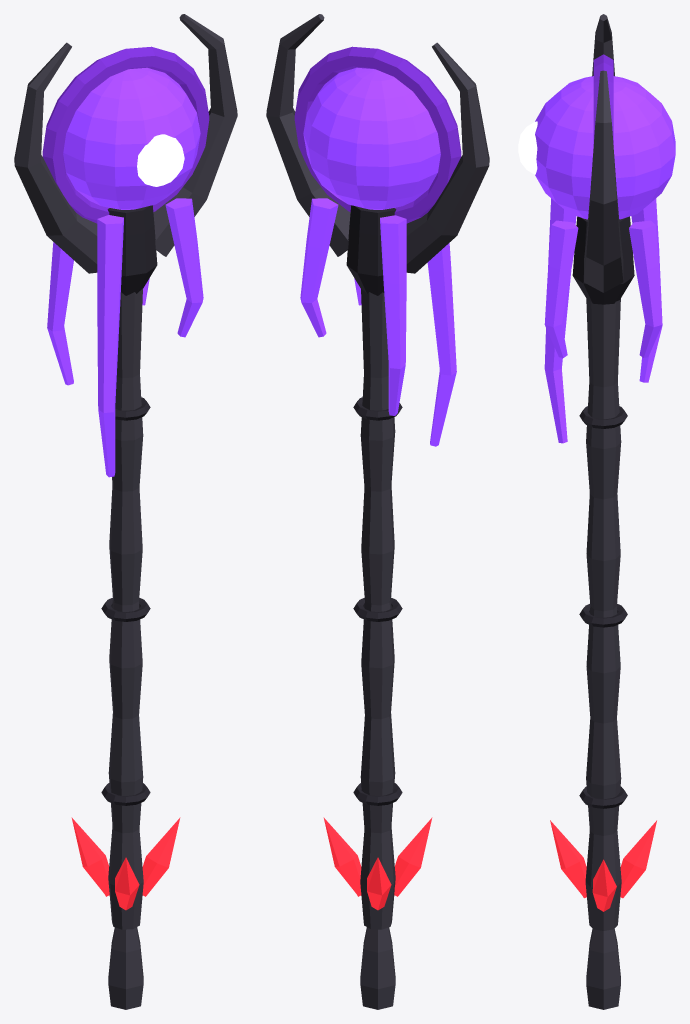
Rendered from staff_voidhammer.glb.
3 renders of one model, left to right at view 1: azimuth 30°, elevation 25°; view 2: azimuth 150°, elevation 25°; view 3: azimuth 270°, elevation 25°, orthographic.
Visible parts, largest first — view 1: Vh_Shaft, Vh_Void, Vh_VoidRing, Vh_Horn0, Vh_Drip2, Vh_Horn1, Vh_Drip3, Vh_Neck, Vh_Butt, Vh_Drip1, Vh_VoidCore, Vh_Tail0 (+4 smaller); view 2: Vh_Shaft, Vh_Void, Vh_VoidRing, Vh_Horn0, Vh_Horn1, Vh_Drip1, Vh_Drip2, Vh_Drip0, Vh_Neck, Vh_Butt, Vh_Tail2, Vh_Tail0 (+3 smaller); view 3: Vh_Shaft, Vh_Void, Vh_Horn1, Vh_Drip3, Vh_Drip0, Vh_Butt, Vh_Drip2, Vh_Neck, Vh_Tail1, Vh_Tail2, Vh_Drip1, Vh_VoidRing (+6 smaller).
Boxes of the visible parts, box(x1,y1,x2,y2) form: Vh_Shaft: box(108, 288, 143, 929); Vh_Void: box(63, 67, 200, 209); Vh_VoidRing: box(42, 46, 209, 223); Vh_Horn0: box(14, 42, 97, 273); Vh_Drip2: box(97, 215, 123, 477); Vh_Horn1: box(153, 14, 237, 256); Vh_Drip3: box(165, 198, 203, 337); Vh_Neck: box(107, 205, 157, 295); Vh_Butt: box(108, 927, 143, 1009); Vh_Drip1: box(47, 242, 73, 385); Vh_VoidCore: box(137, 134, 184, 186); Vh_Tail0: box(142, 817, 180, 896); Vh_Shaft: box(360, 288, 395, 929); Vh_Void: box(303, 67, 440, 209); Vh_VoidRing: box(294, 46, 461, 223); Vh_Horn0: box(406, 42, 489, 273); Vh_Horn1: box(266, 14, 350, 256); Vh_Drip1: box(380, 215, 406, 415); Vh_Drip2: box(427, 243, 456, 446); Vh_Drip0: box(300, 198, 338, 337); Vh_Neck: box(346, 205, 396, 295); Vh_Butt: box(360, 927, 395, 1009); Vh_Tail2: box(394, 817, 432, 896); Vh_Tail0: box(323, 817, 361, 896); Vh_Shaft: box(585, 298, 621, 930); Vh_Void: box(535, 76, 675, 219); Vh_Horn1: box(584, 70, 623, 292); Vh_Drip3: box(544, 220, 578, 357); Vh_Drip0: box(629, 220, 662, 357); Vh_Butt: box(586, 928, 620, 1009); Vh_Drip2: box(544, 198, 576, 443); Vh_Neck: box(572, 216, 634, 304); Vh_Tail1: box(620, 820, 656, 898); Vh_Tail2: box(550, 820, 586, 898); Vh_Drip1: box(631, 198, 662, 382); Vh_VoidRing: box(593, 54, 613, 144).
Size of the model in its own units: 0.5329 by 2.23 by 0.3301.
